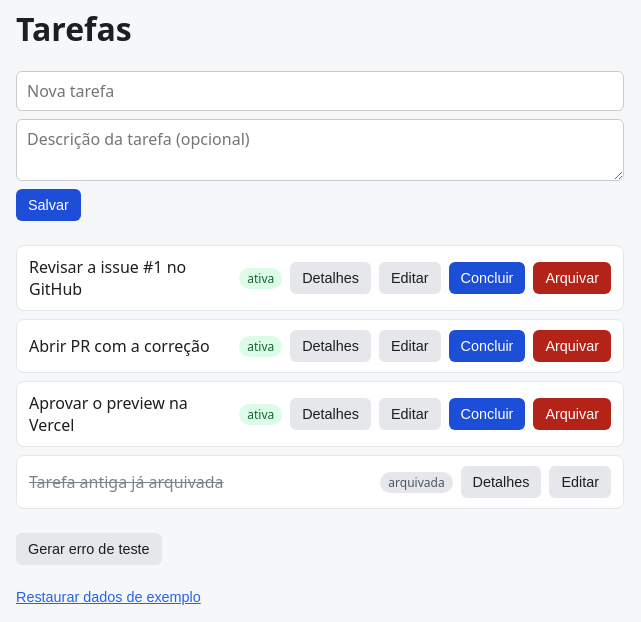
Page › restaura os dados de exemplo
Click the button "Arquivar" in the row of "Revisar a issue #1 no GitHub" at [572, 278], box [533,262,611,294]
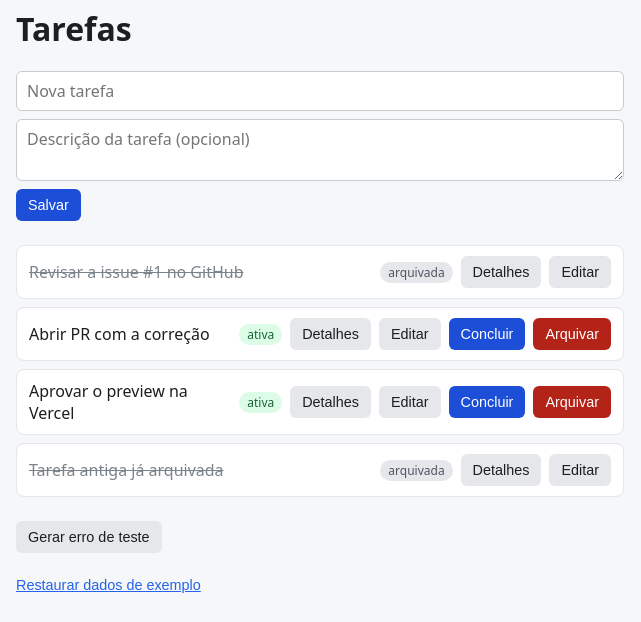
Click the button "Restaurar dados de exemplo" at [108, 585], box [16,577,201,593]
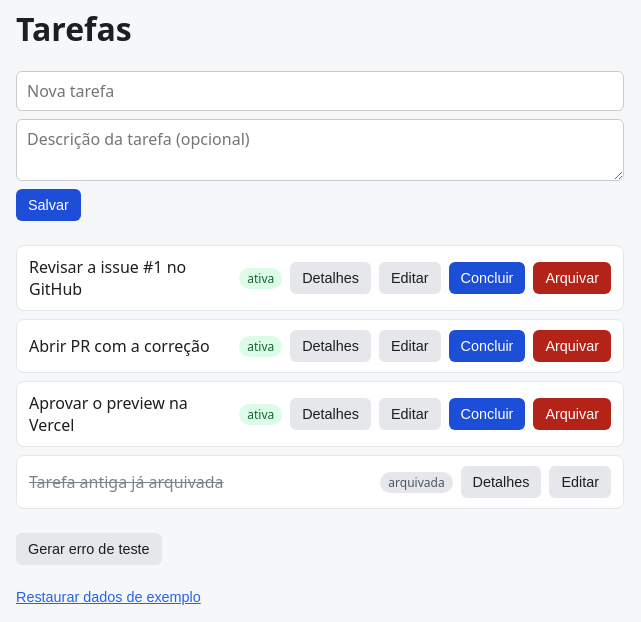
Expected: the number of list items is 4, [16,245,624,311]; [16,319,624,373]; [16,381,624,447]; [16,455,624,509]
Expected: the text "ativa" next to "Revisar a issue #1 no GitHub" is shown, [247,270,274,287]
